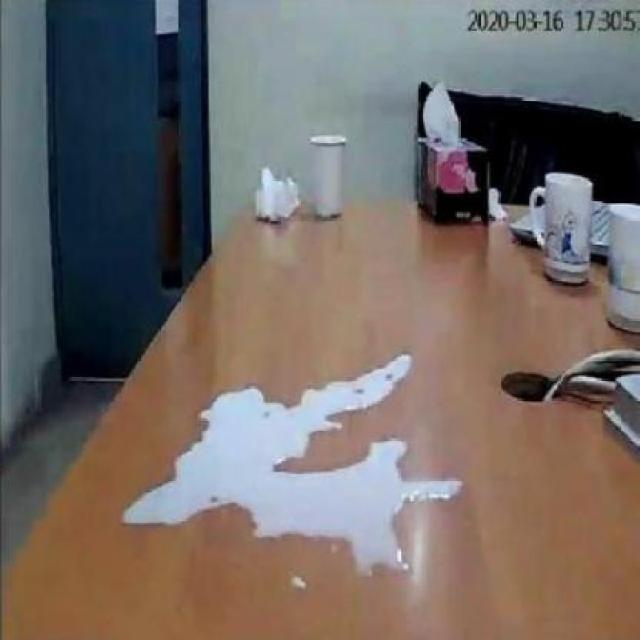spillage: (123, 356, 460, 575)
